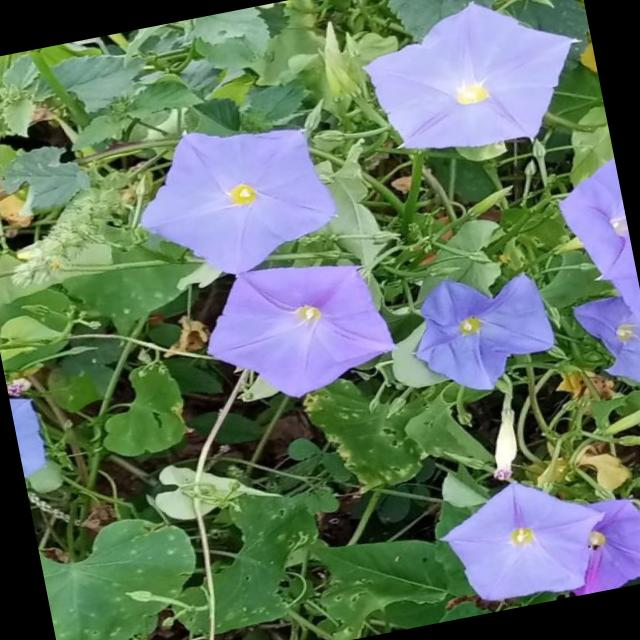ipomoea: (122, 104, 350, 294), (350, 0, 597, 172), (190, 244, 404, 417), (428, 464, 620, 617), (397, 258, 566, 406)
